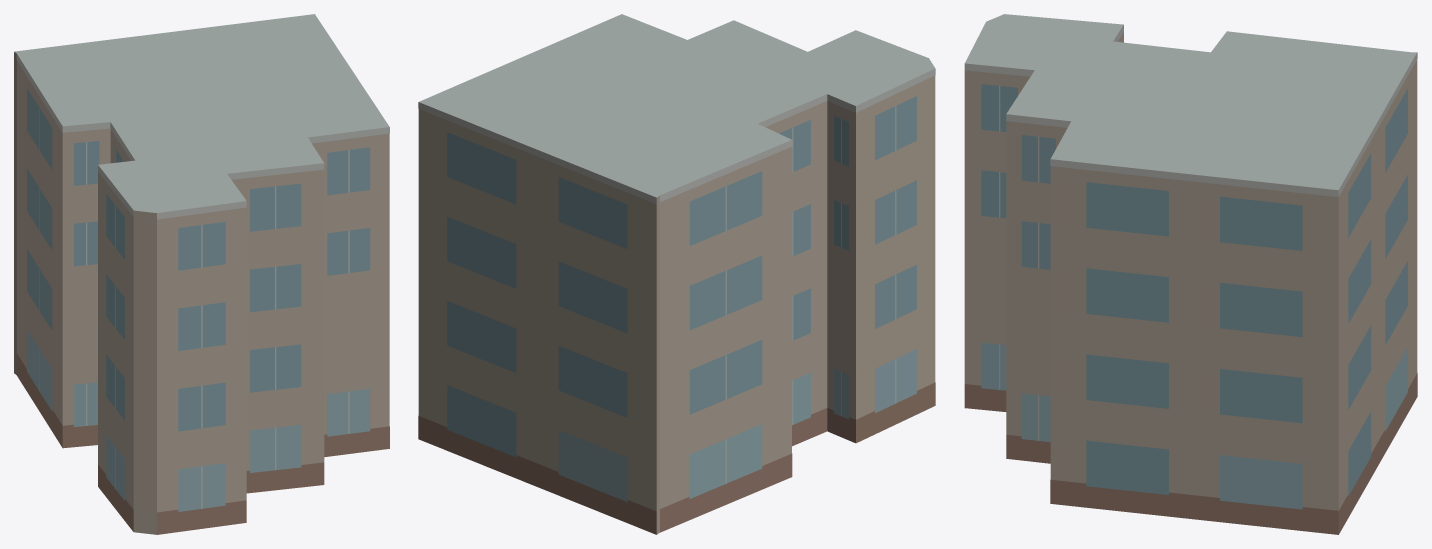
File: survey-upis-32815117.glb
The picture shows the model from 3 angles, left to right: view 1: azimuth 30°, elevation 25°; view 2: azimuth 150°, elevation 25°; view 3: azimuth 270°, elevation 25°; orthographic projection. The views are drawn at different scales.
Visible parts, largest first — view 1: survey-upis-32815117.tmp; view 2: survey-upis-32815117.tmp; view 3: survey-upis-32815117.tmp.
Boxes of the visible parts, x1,y1,x2,y2 form: survey-upis-32815117.tmp: (14,14,389,534); survey-upis-32815117.tmp: (418,14,935,534); survey-upis-32815117.tmp: (964,14,1417,534).
Size of the model in its own units: 13.39 by 12.2 by 14.54.
